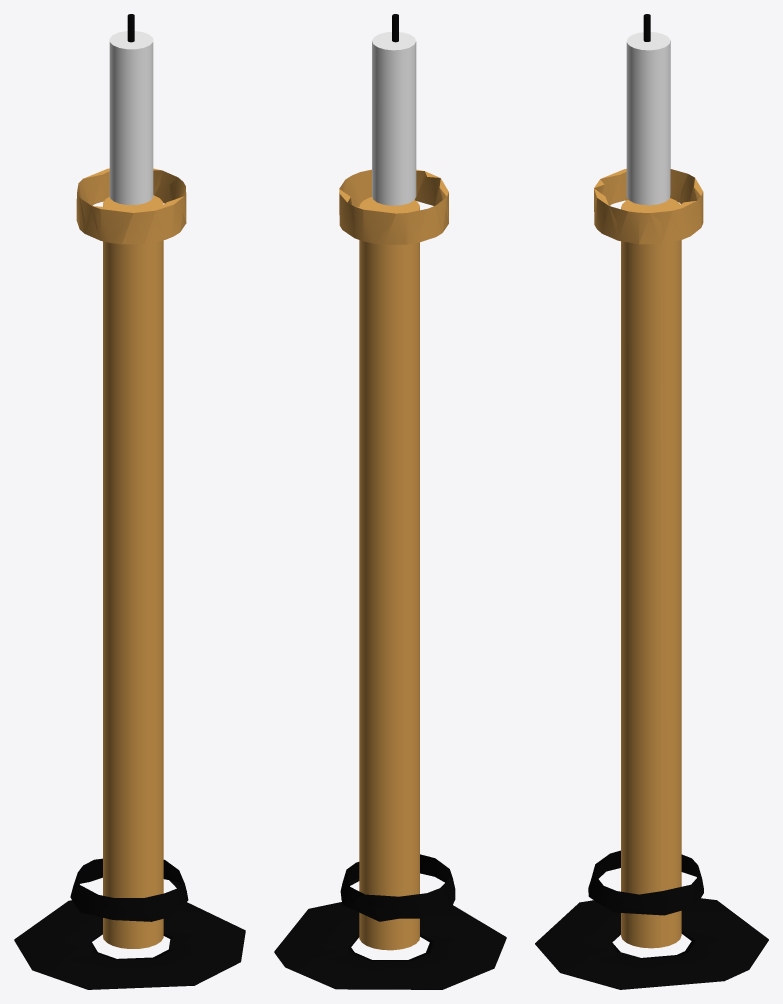
The model's file is Candlestick.obj.
3 renders of one model, left to right at view 1: azimuth 30°, elevation 25°; view 2: azimuth 150°, elevation 25°; view 3: azimuth 270°, elevation 25°, orthographic.
Visible parts, largest first — view 1: group1 candlestick:pCylinder2, group1 candlestick:pTorus1, group1 candlestick:Cylinder006, candlestick:group1 group1, group1 candlestick:Object003; view 2: group1 candlestick:pCylinder2, group1 candlestick:pTorus1, group1 candlestick:Cylinder006, candlestick:group1 group1, group1 candlestick:Object003; view 3: group1 candlestick:pCylinder2, group1 candlestick:pTorus1, group1 candlestick:Cylinder006, candlestick:group1 group1, group1 candlestick:Object003.
Boxes of the visible parts, <box> form: group1 candlestick:pCylinder2: <box>103,195,163,948</box>; group1 candlestick:pTorus1: <box>14,900,245,989</box>; group1 candlestick:Cylinder006: <box>109,31,153,204</box>; candlestick:group1 group1: <box>76,168,186,244</box>; group1 candlestick:Object003: <box>70,858,188,921</box>; group1 candlestick:pCylinder2: <box>359,197,419,950</box>; group1 candlestick:pTorus1: <box>274,902,506,989</box>; group1 candlestick:Cylinder006: <box>372,32,416,205</box>; candlestick:group1 group1: <box>339,169,448,244</box>; group1 candlestick:Object003: <box>340,854,455,921</box>; group1 candlestick:pCylinder2: <box>621,198,681,948</box>; group1 candlestick:pTorus1: <box>535,898,768,989</box>; group1 candlestick:Cylinder006: <box>626,32,670,205</box>; candlestick:group1 group1: <box>594,169,703,244</box>; group1 candlestick:Object003: <box>588,850,703,915</box>.
Bounding box in the file's own units: 0.284 × 1.26 × 0.2893.
1 material, 1 textured.
